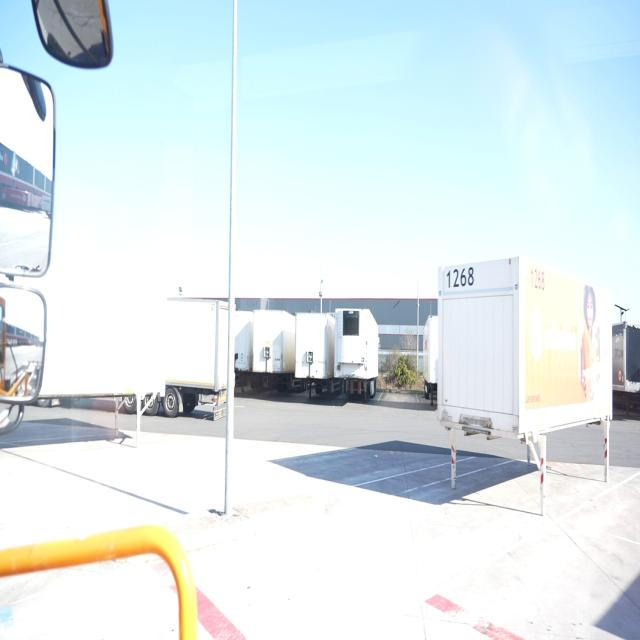Code: (446, 263, 478, 294), (527, 260, 548, 296)
